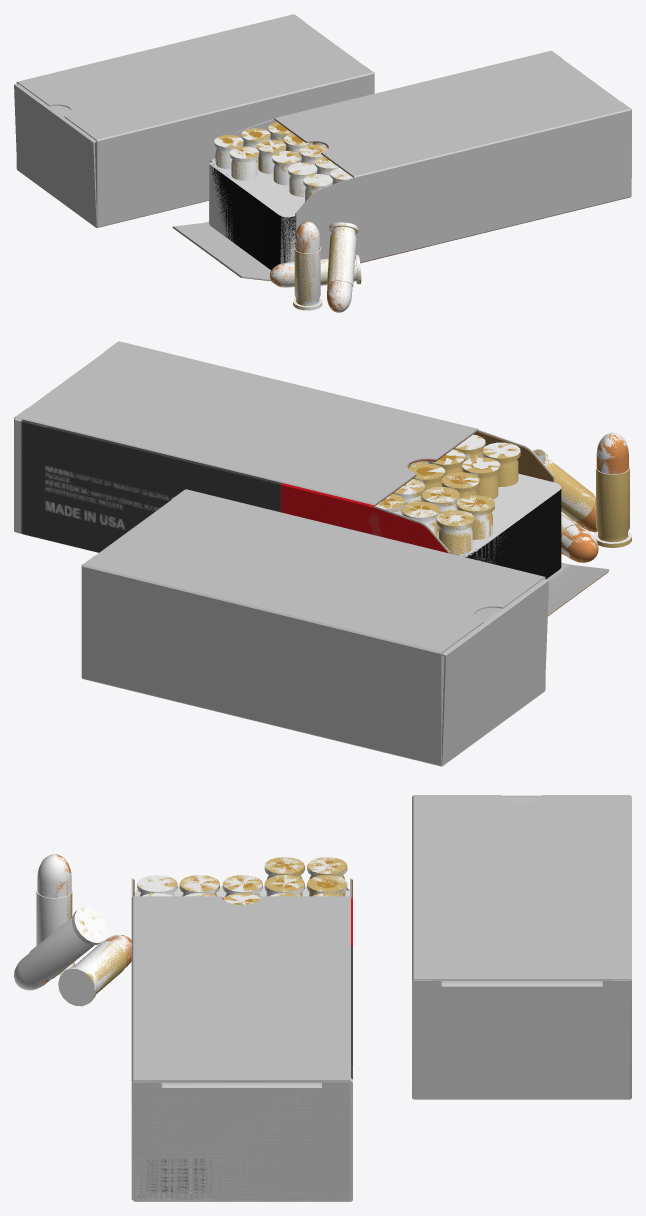
Rendered from EmptyBox.fbx.
3 views of the same model, one above another, from view 1: azimuth 30°, elevation 25°; view 2: azimuth 150°, elevation 25°; view 3: azimuth 270°, elevation 25° (orthographic). The views are drawn at different scales.
Parts seen in each view (by area): view 1: BoxContainer, EmptyBox, AmmoBox, Bullet, Box; view 2: EmptyBox, AmmoBox, BoxContainer, Bullet, Box; view 3: EmptyBox, BoxContainer, AmmoBox, Bullet.
Part boxes in pixels (x1,y1,x2,y2): BoxContainer: (173,51,631,280); EmptyBox: (14,14,374,227); AmmoBox: (172,119,629,312); Bullet: (214,125,361,312); Box: (209,158,304,263); EmptyBox: (81,489,548,766); AmmoBox: (14,418,631,616); BoxContainer: (14,341,609,615); Bullet: (375,432,631,560); Box: (437,473,561,562); EmptyBox: (412,795,631,1099); BoxContainer: (131,878,351,1200); AmmoBox: (22,854,352,1201); Bullet: (14,854,347,1006).
Bounding box in the file's own units: 22.74 × 4.69 × 20.49.
